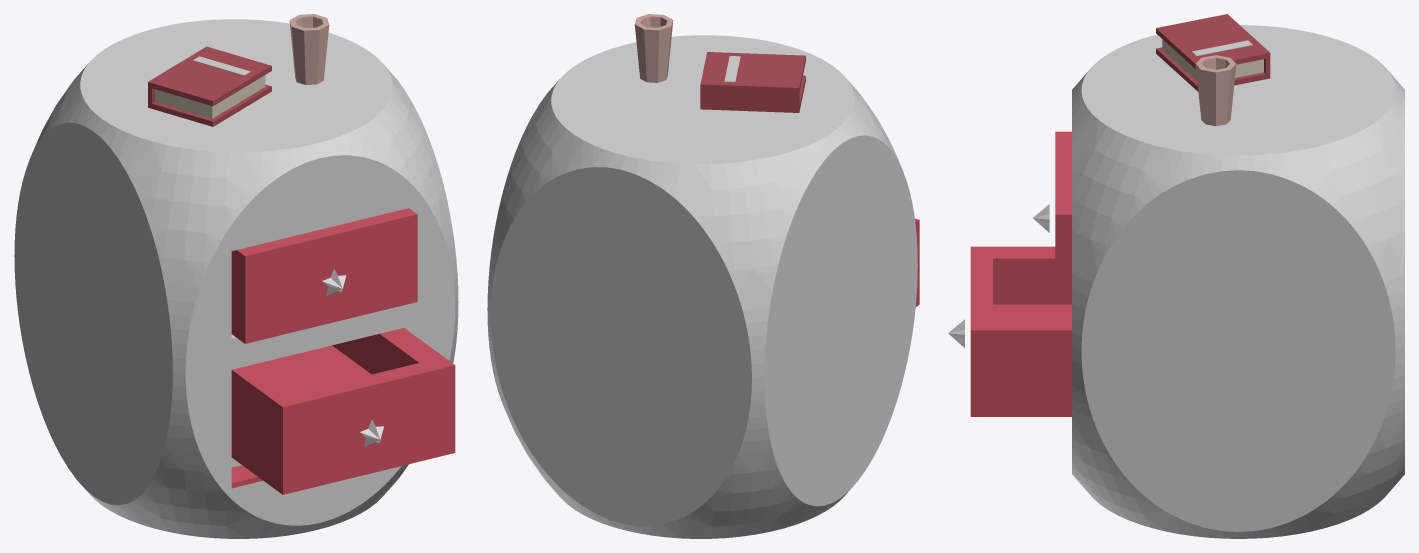
The model's file is Nightstand.glb.
3 views of the same model, side by side, from view 1: azimuth 30°, elevation 25°; view 2: azimuth 150°, elevation 25°; view 3: azimuth 270°, elevation 25° (orthographic). The views are drawn at different scales.
Parts seen in each view (by area): view 1: Mesh_Mesh_head_geo.001_lambert2SG.001; view 2: Mesh_Mesh_head_geo.001_lambert2SG.001; view 3: Mesh_Mesh_head_geo.001_lambert2SG.001.
Part boxes in pixels (left/top/right/bottom): Mesh_Mesh_head_geo.001_lambert2SG.001: left=14, top=14, right=458, bottom=538; Mesh_Mesh_head_geo.001_lambert2SG.001: left=487, top=14, right=919, bottom=538; Mesh_Mesh_head_geo.001_lambert2SG.001: left=948, top=14, right=1404, bottom=538.
Size of the model in its own units: 58 by 86 by 81.
